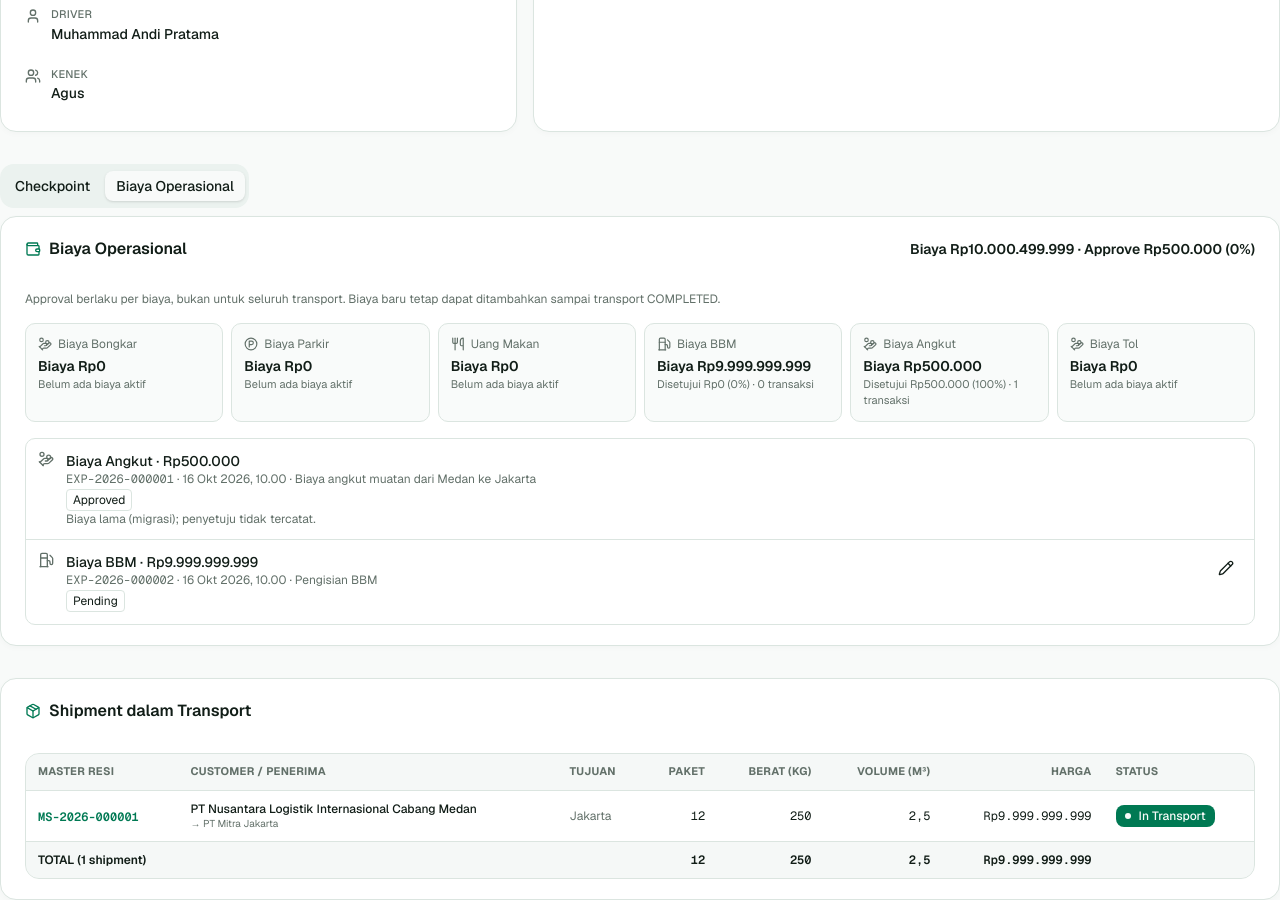
responsive transport finance and bank management › allows update-only users with view permission to edit, but not add, expenses
This screenshot has width=1280, height=900.
(page scrolled)
Click the button named "Edit biaya": click(1226, 568) left=1210, top=552, right=1242, bottom=584
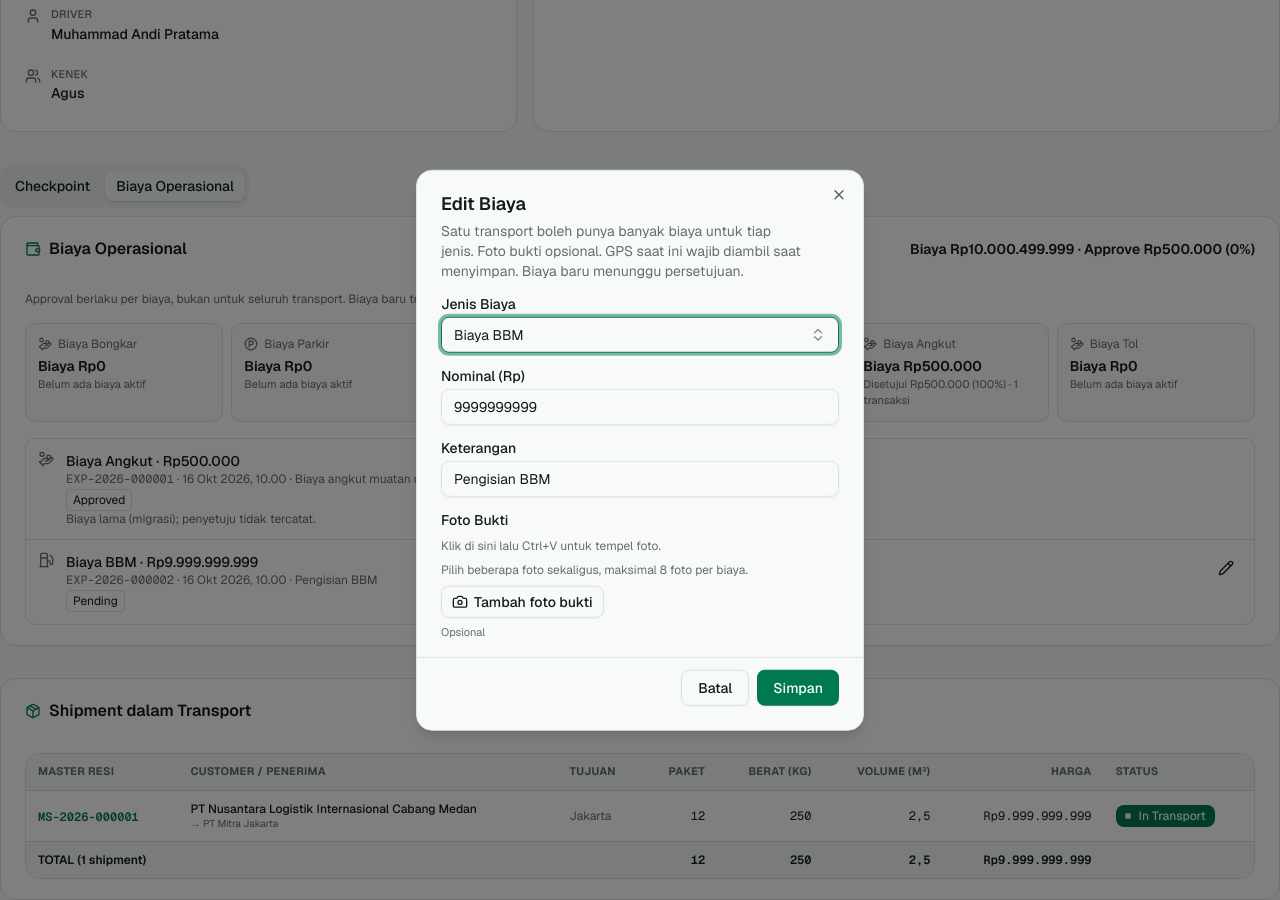
Expected: the dialog "Edit Biaya" is shown, left=416, top=170, right=864, bottom=730
